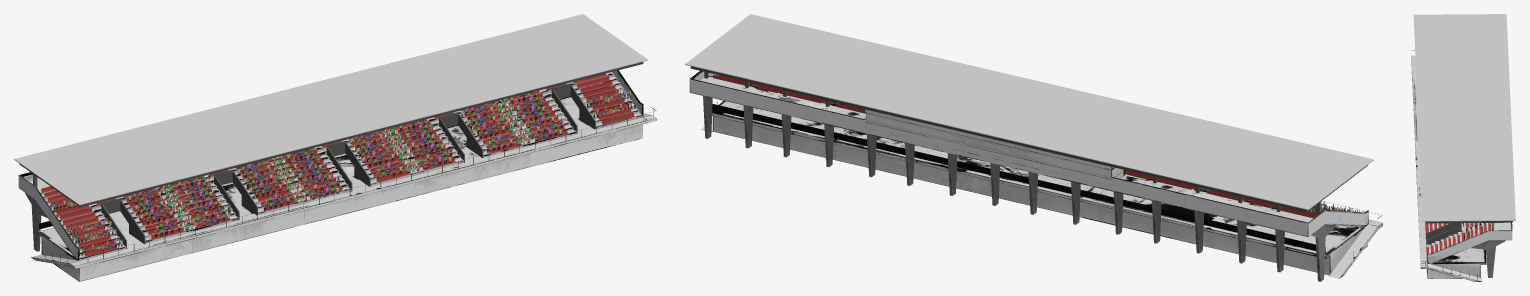
Rendered from Tribune_1.fbx.
3 renders of one model, left to right at view 1: azimuth 30°, elevation 25°; view 2: azimuth 150°, elevation 25°; view 3: azimuth 270°, elevation 25°, orthographic. The views are drawn at different scales.
Parts seen in each view (by area): view 1: Tribune_1; view 2: Tribune_1; view 3: Tribune_1.
Boxes of the visible parts, bbox=[...] form: Tribune_1: bbox=[14, 14, 656, 281]; Tribune_1: bbox=[685, 14, 1382, 281]; Tribune_1: bbox=[1411, 14, 1515, 281].
Size of the model in its own units: 14508 by 1880 by 3035.
